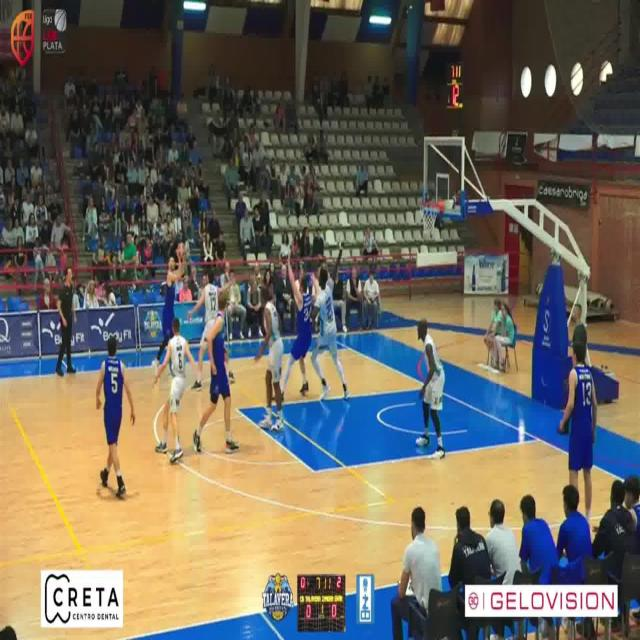ball: (176, 237, 186, 267)
basket: (422, 198, 444, 239)
player: (559, 322, 598, 522), (197, 287, 239, 452), (95, 335, 135, 498), (153, 317, 195, 464), (311, 266, 350, 399), (282, 256, 316, 398), (152, 241, 186, 366), (416, 318, 446, 459), (254, 289, 283, 431), (187, 274, 220, 388)
referee: (54, 267, 76, 376), (569, 304, 588, 362)
